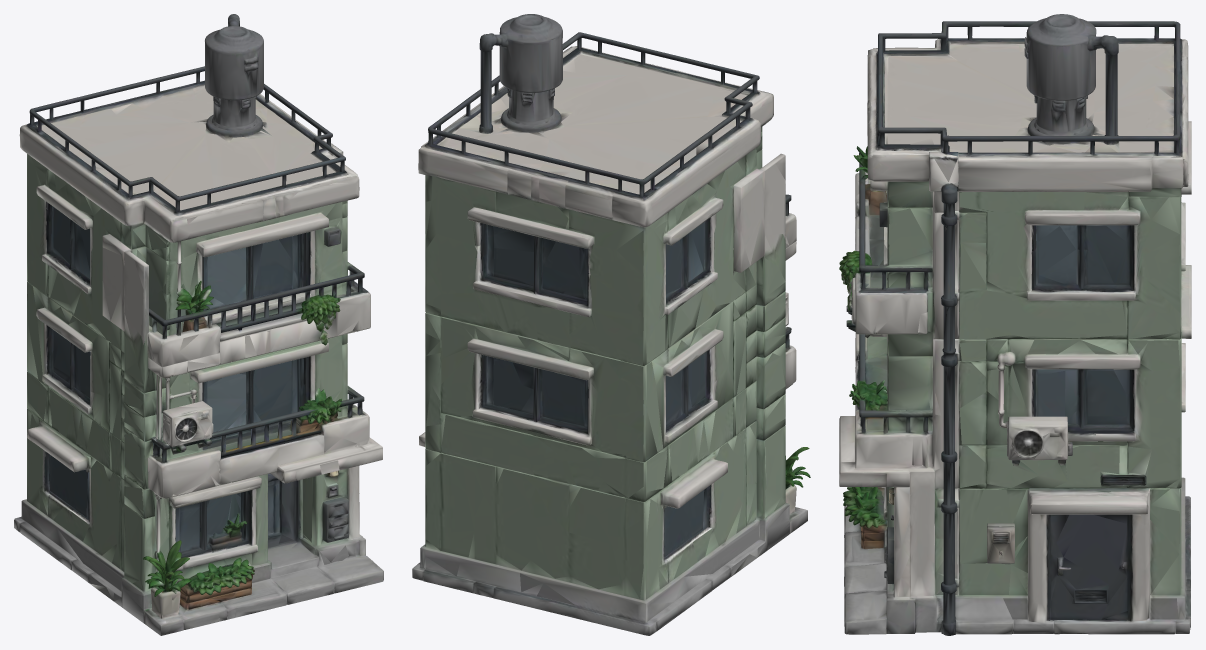
Rendered from building21.glb.
The picture shows the model from 3 angles, left to right: view 1: azimuth 30°, elevation 25°; view 2: azimuth 150°, elevation 25°; view 3: azimuth 270°, elevation 25°; orthographic projection. The views are drawn at different scales.
Visible parts, largest first — view 1: tripo_node_856315cb-228a-4997-92c0-dac9be959f6f; view 2: tripo_node_856315cb-228a-4997-92c0-dac9be959f6f; view 3: tripo_node_856315cb-228a-4997-92c0-dac9be959f6f.
Boxes of the visible parts, box(x1,y1,x2,y2) form: tripo_node_856315cb-228a-4997-92c0-dac9be959f6f: box(14, 14, 383, 635); tripo_node_856315cb-228a-4997-92c0-dac9be959f6f: box(412, 14, 810, 635); tripo_node_856315cb-228a-4997-92c0-dac9be959f6f: box(839, 14, 1191, 635).
Size of the model in its own units: 0.5013 by 0.9783 by 0.5385.
1 material, 1 textured.
